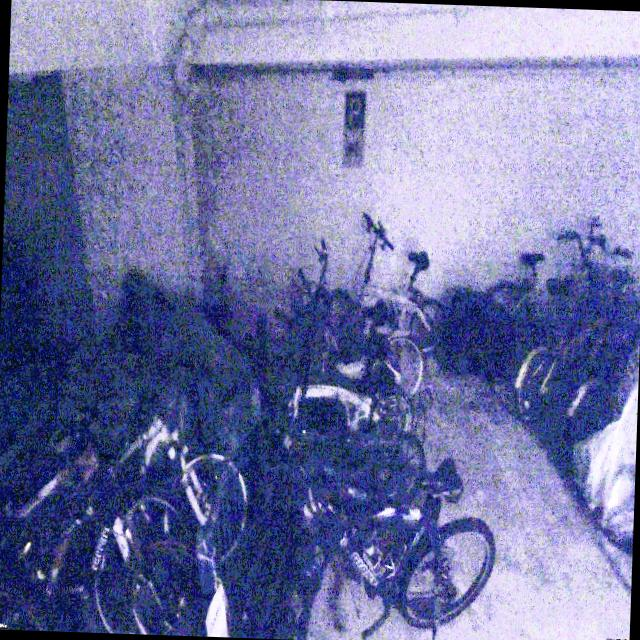bike: (264, 448, 496, 640), (32, 392, 252, 590), (510, 230, 640, 422), (277, 235, 432, 396), (481, 219, 613, 369), (330, 212, 450, 366)
